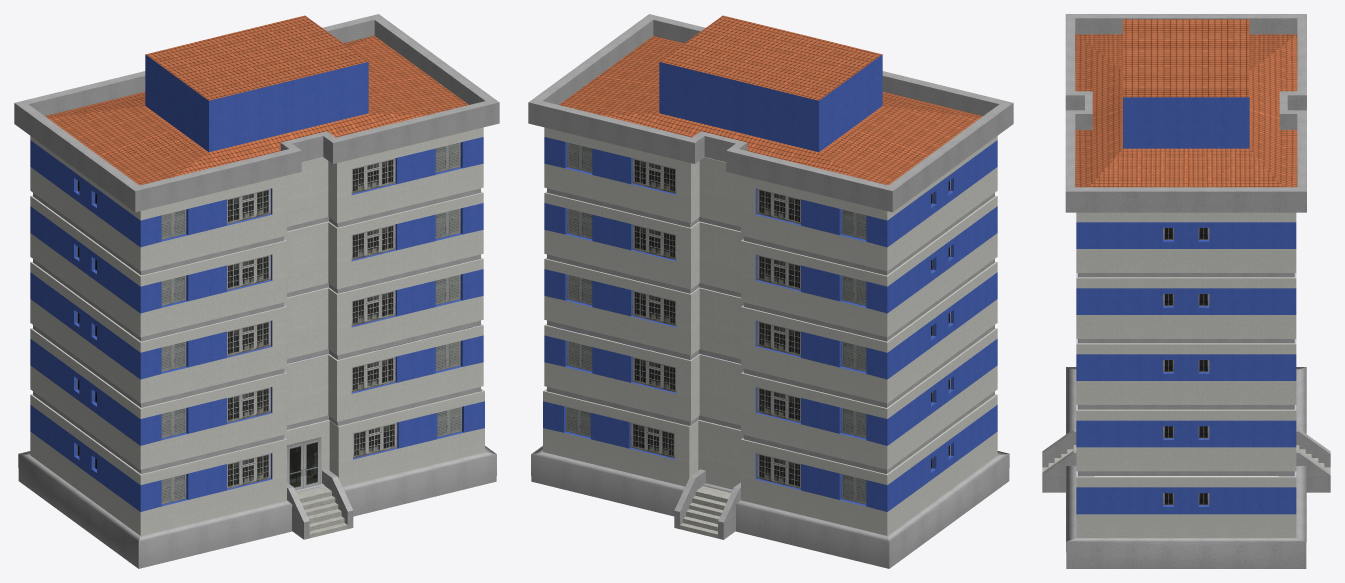
File: predio3.fbx
3 views of the same model, side by side, from view 1: azimuth 30°, elevation 25°; view 2: azimuth 150°, elevation 25°; view 3: azimuth 270°, elevation 25° (orthographic).
Parts seen in each view (by area): view 1: predio3; view 2: predio3; view 3: predio3.
Part boxes in pixels (<box>): predio3: <box>14,14,499,568</box>; predio3: <box>528,14,1013,568</box>; predio3: <box>1042,14,1330,568</box>.
Bounding box in the file's own units: 18.8 × 20.88 × 12.89.
